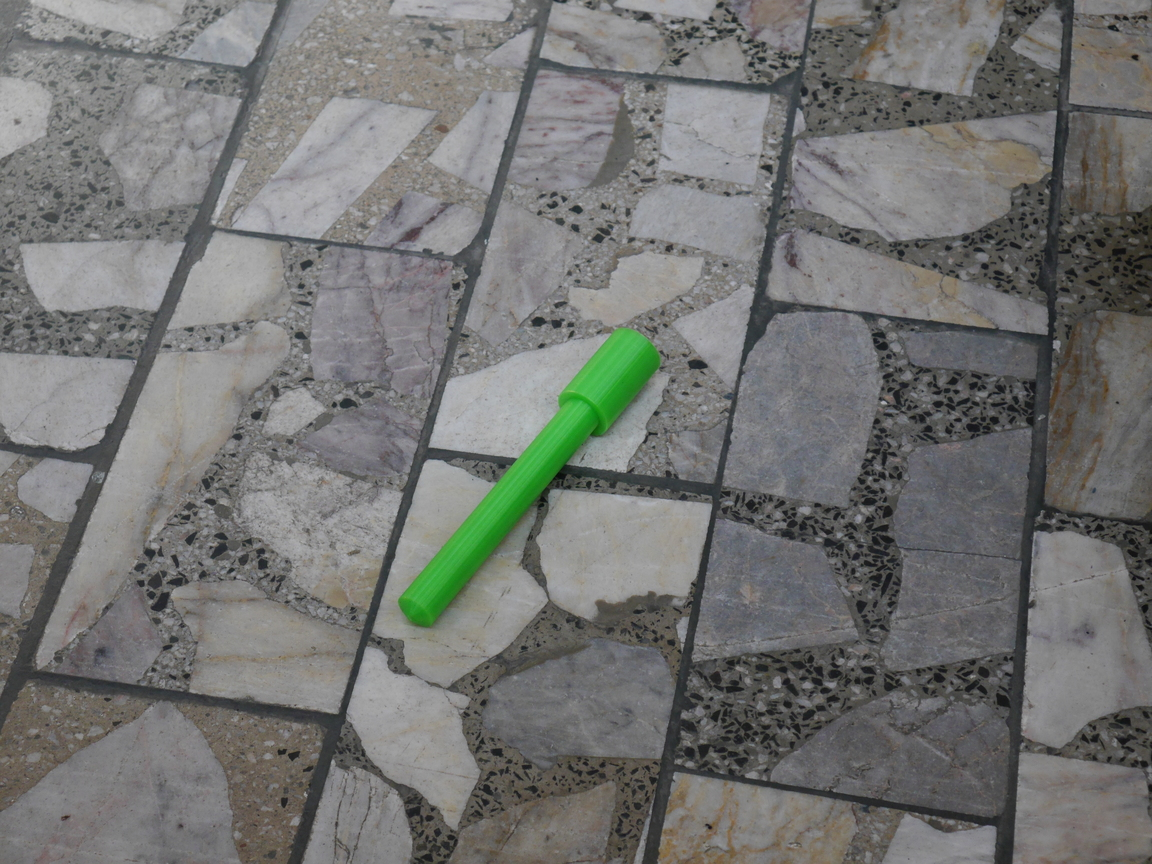cargo_g: (397, 329, 656, 628)
